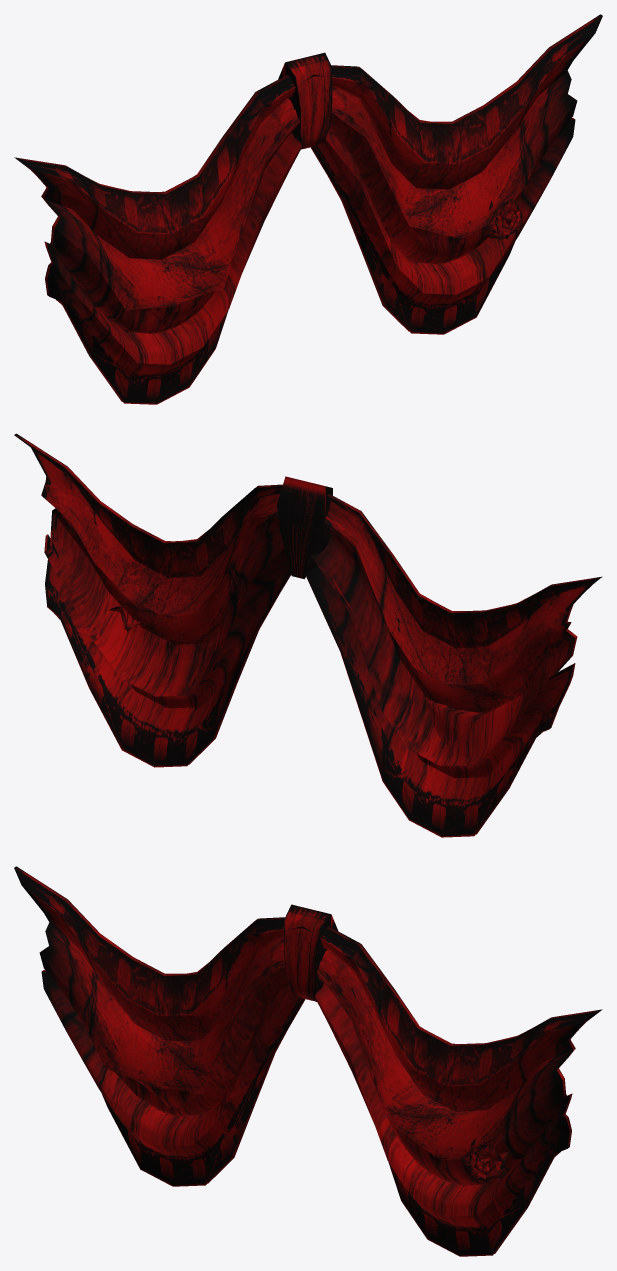
Rendered from stage00.fbx.
The picture shows the model from 3 angles, top to bottom: view 1: azimuth 30°, elevation 25°; view 2: azimuth 150°, elevation 25°; view 3: azimuth 330°, elevation 25°; orthographic projection.
Parts seen in each view (by area): view 1: U_Char; view 2: U_Char; view 3: U_Char.
Boxes of the visible parts, x1,y1,x2,y2 form: U_Char: (14, 14, 602, 404); U_Char: (14, 433, 602, 837); U_Char: (14, 866, 602, 1256).
Bounding box in the file's own units: 619 × 319 × 47.48.
